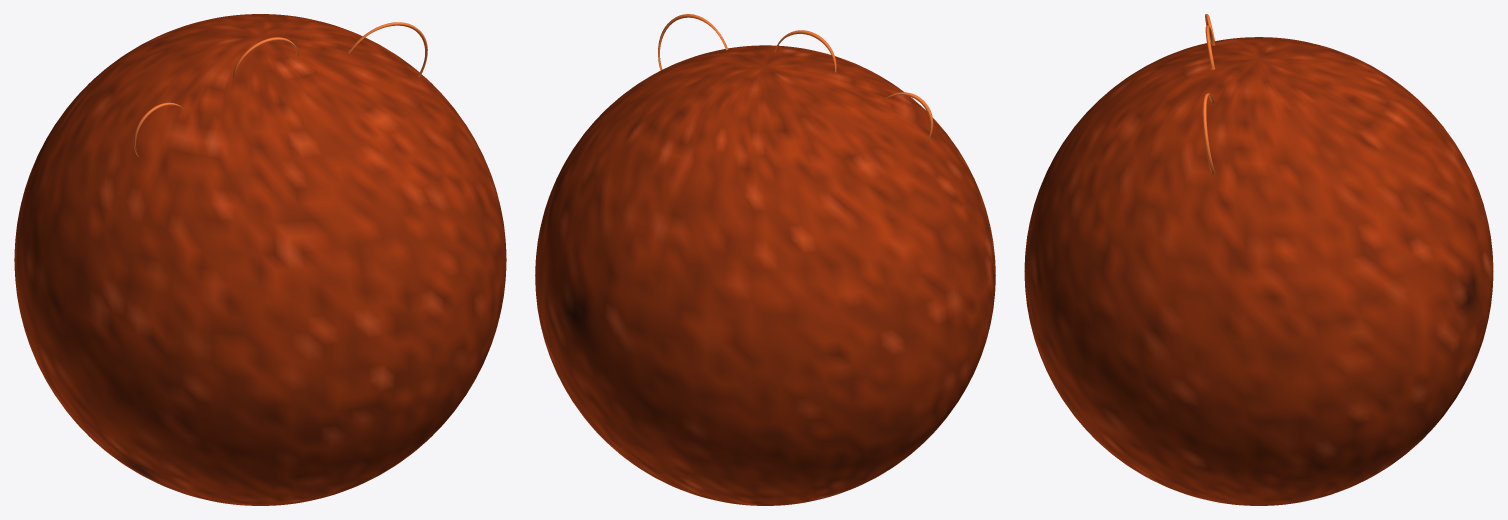
The model's file is Star_45.fbx.
3 renders of one model, left to right at view 1: azimuth 30°, elevation 25°; view 2: azimuth 150°, elevation 25°; view 3: azimuth 270°, elevation 25°, orthographic. The views are drawn at different scales.
Parts seen in each view (by area): view 1: Star_45; view 2: Star_45; view 3: Star_45.
Boxes of the visible parts, box(x1,y1,x2,y2) form: Star_45: box(14, 14, 506, 505); Star_45: box(535, 14, 995, 505); Star_45: box(1024, 14, 1493, 505).
Size of the model in its own units: 200 by 210 by 200.
